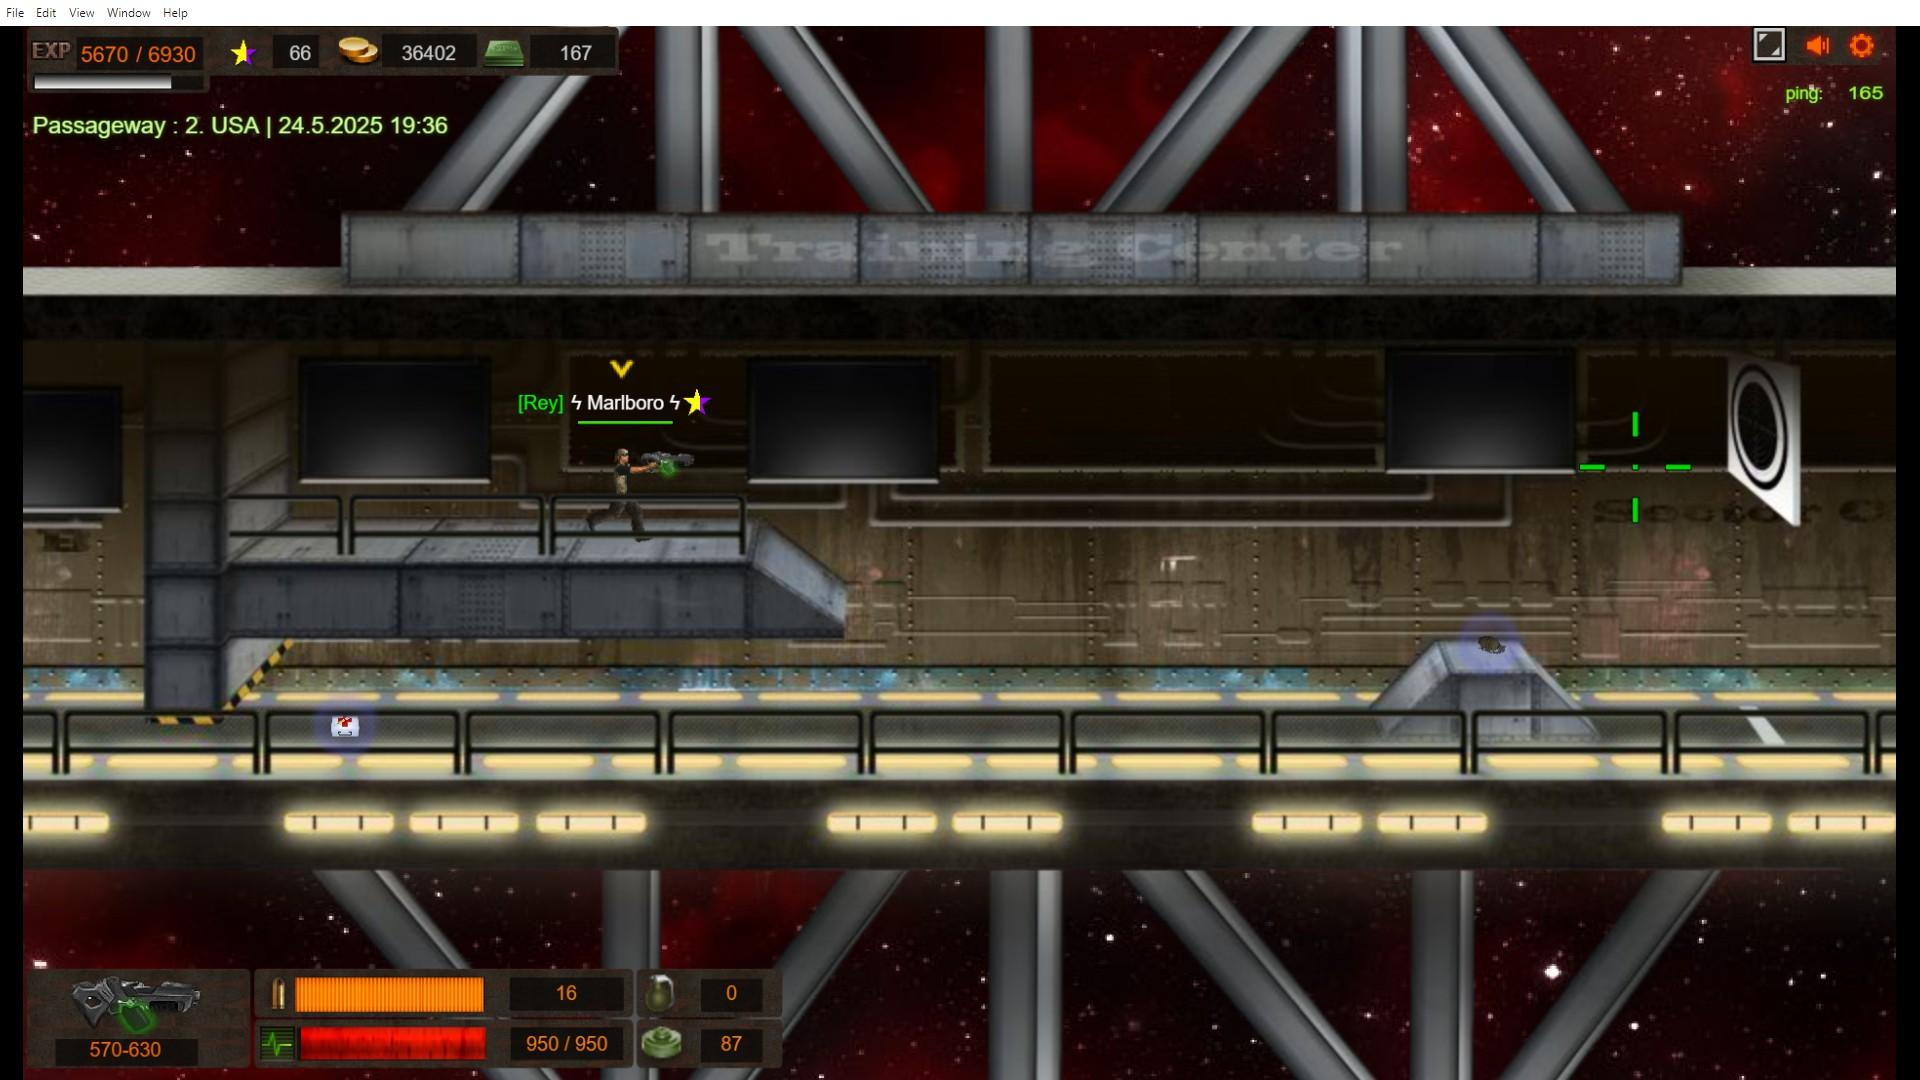enemy: (607, 450, 642, 545)
